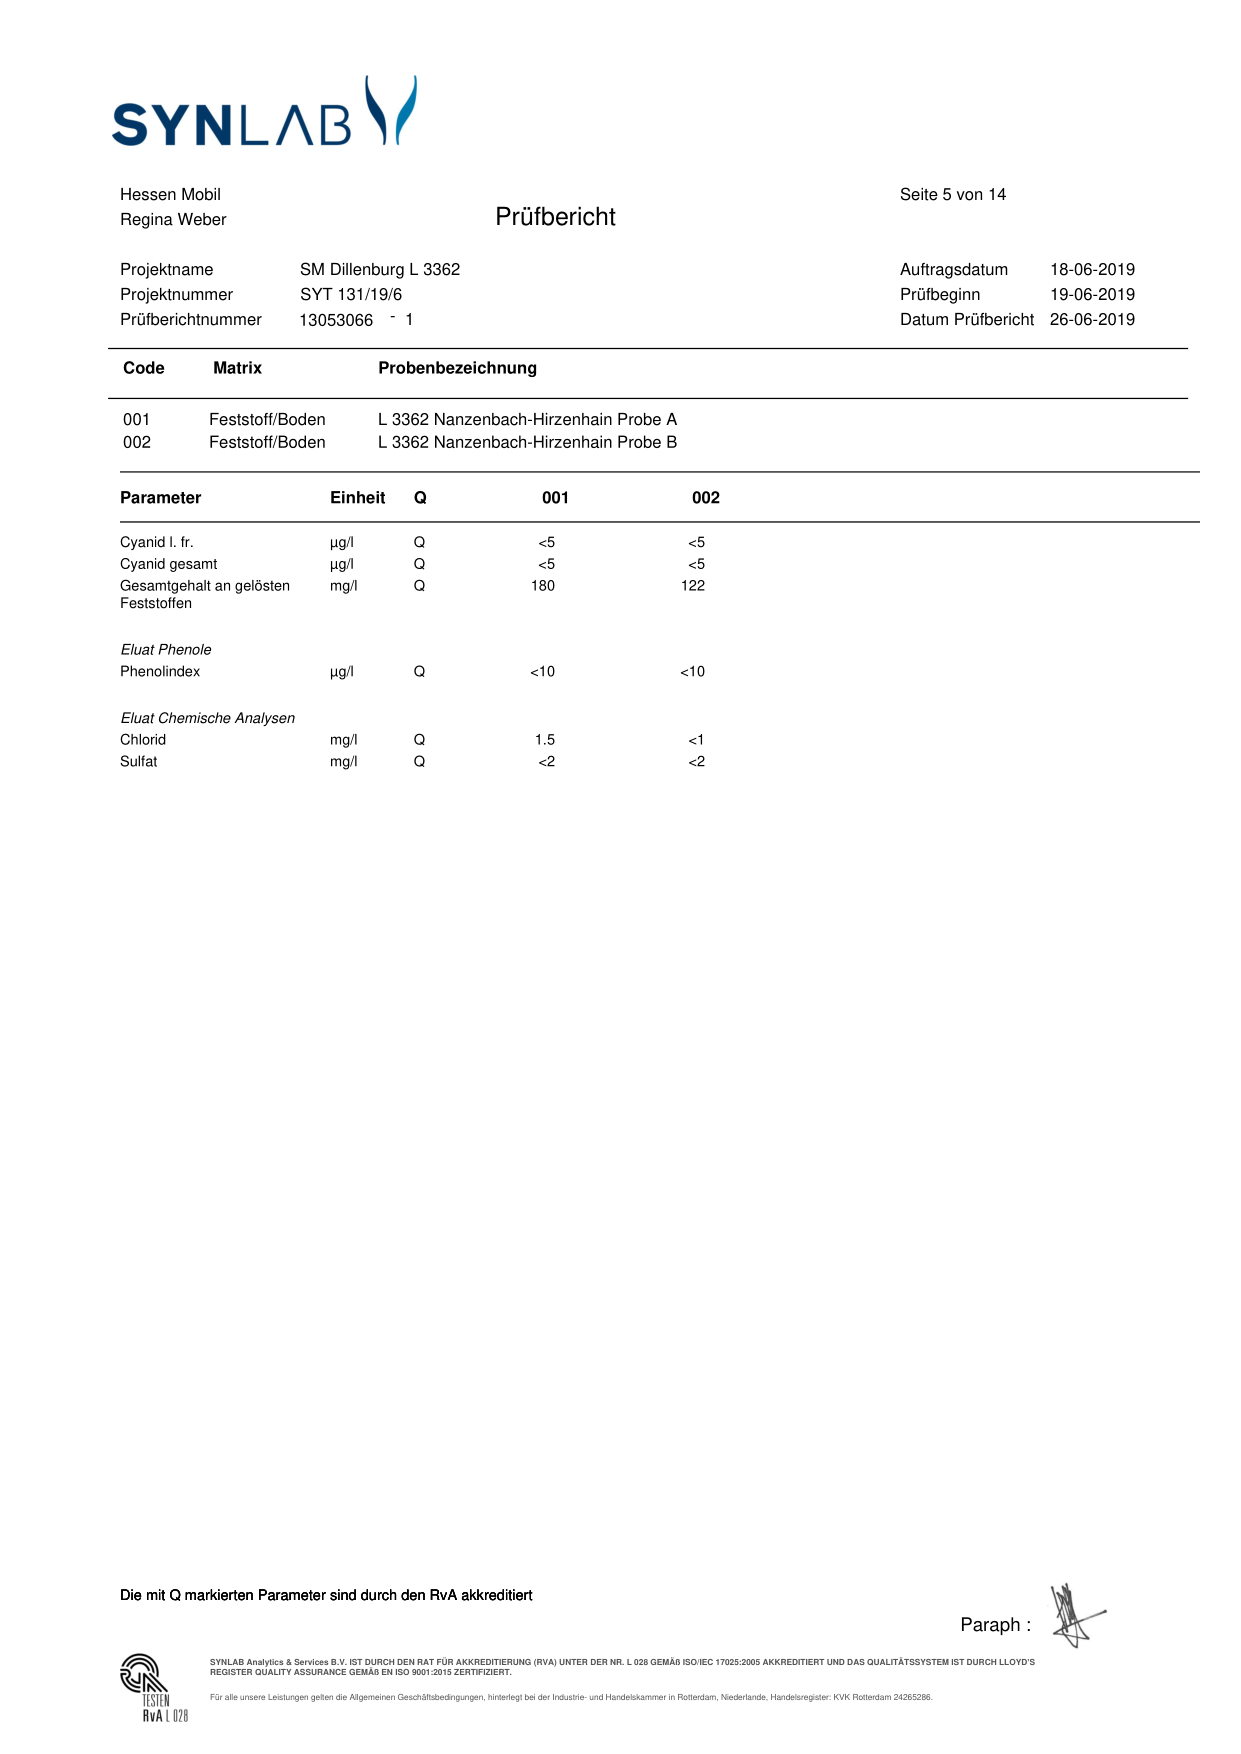table: (111, 528, 731, 788)
